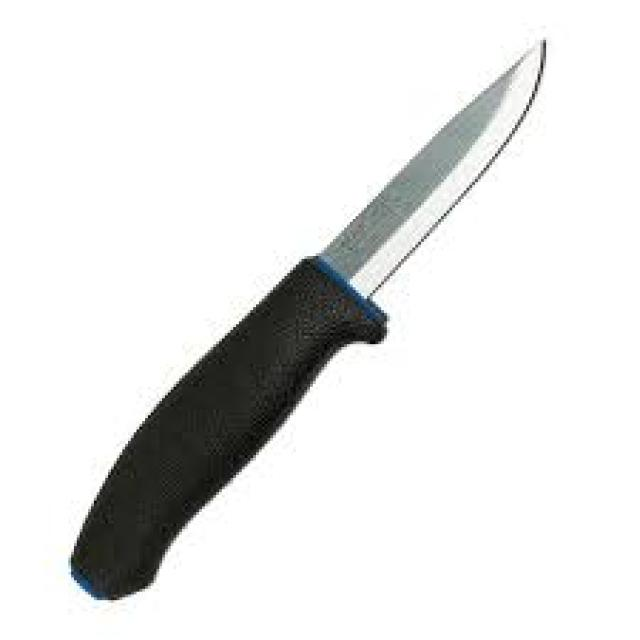knife: (65, 28, 559, 614)
